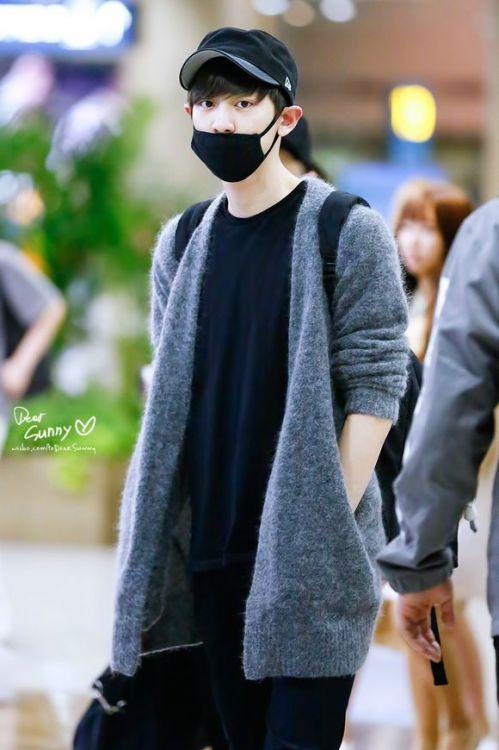NONE: (399, 218, 446, 273)
WRONG: (184, 84, 284, 184)
